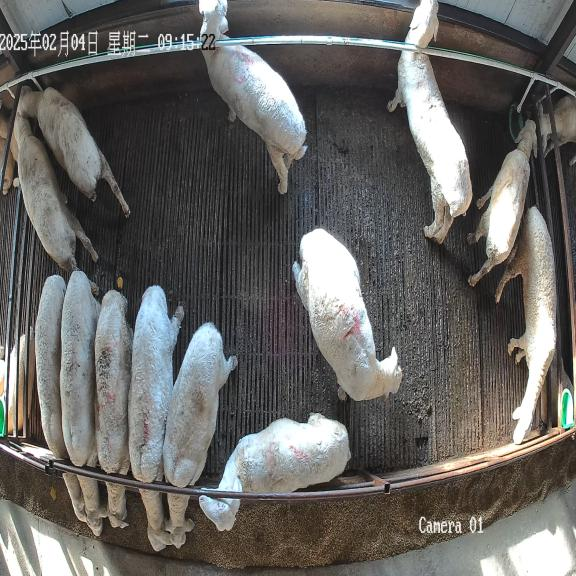drinking: (18, 87, 130, 217), (13, 115, 98, 271), (467, 122, 535, 286)
eating: (163, 322, 237, 548), (128, 285, 184, 552), (60, 270, 108, 536), (35, 275, 86, 522), (95, 290, 133, 528)
stand: (199, 0, 307, 194), (387, 0, 472, 244), (292, 228, 402, 401), (199, 413, 351, 530), (496, 206, 556, 444)
